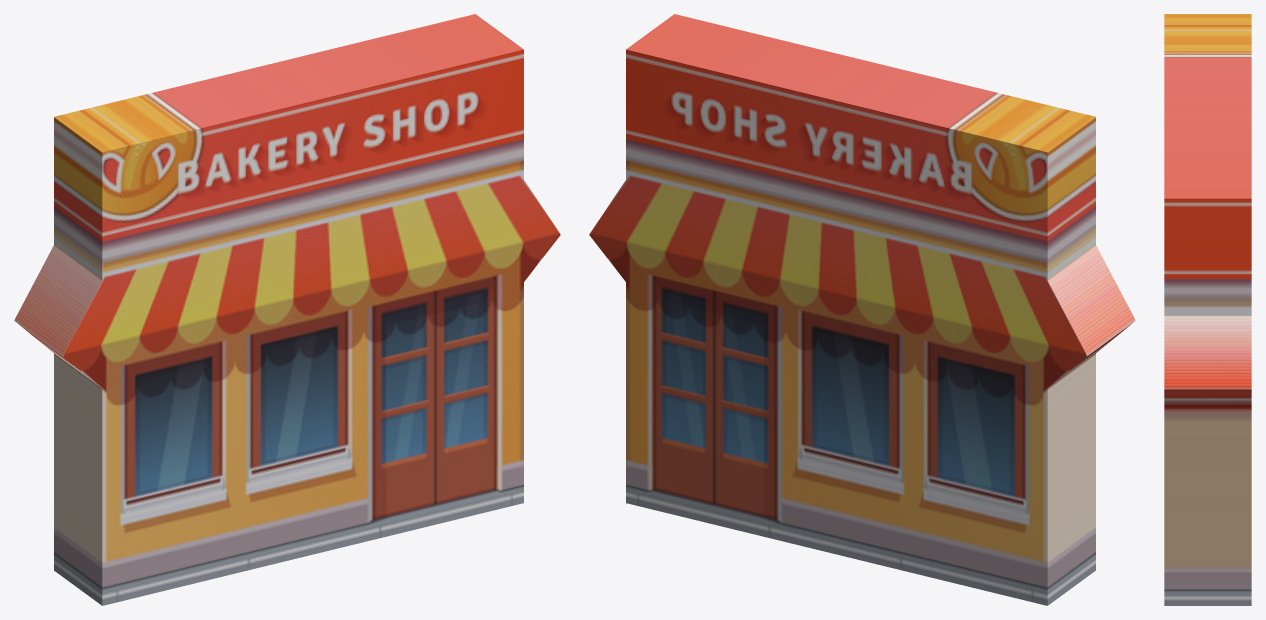
The picture shows the model from 3 angles, left to right: view 1: azimuth 30°, elevation 25°; view 2: azimuth 150°, elevation 25°; view 3: azimuth 270°, elevation 25°; orthographic projection. The views are drawn at different scales.
Parts seen in each view (by area): view 1: 51137199-bakery-shop-building-facade-with-signboard-flat-sty; view 2: 51137199-bakery-shop-building-facade-with-signboard-flat-sty; view 3: 51137199-bakery-shop-building-facade-with-signboard-flat-sty.
Part boxes in pixels (x1,y1,x2,y2): 51137199-bakery-shop-building-facade-with-signboard-flat-sty: (14, 14, 560, 605); 51137199-bakery-shop-building-facade-with-signboard-flat-sty: (589, 14, 1135, 605); 51137199-bakery-shop-building-facade-with-signboard-flat-sty: (1164, 14, 1251, 605).
Bounding box in the file's own units: 67.57 × 58.79 × 11.4.
